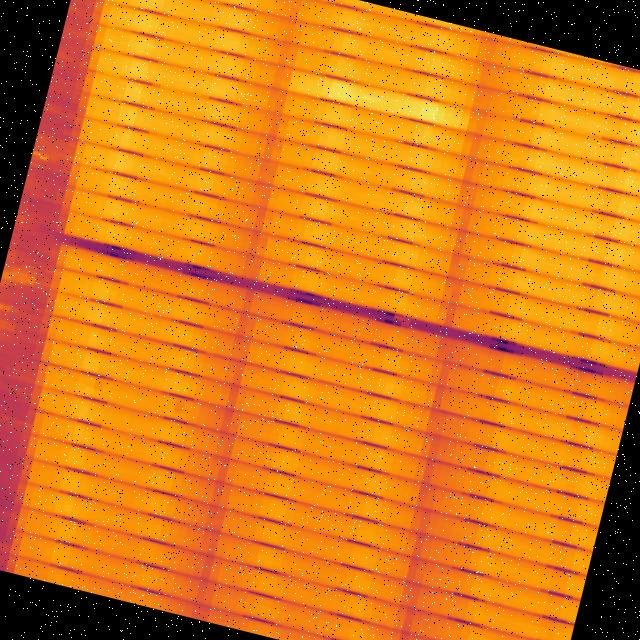Hotspot: (312, 74, 454, 128)
